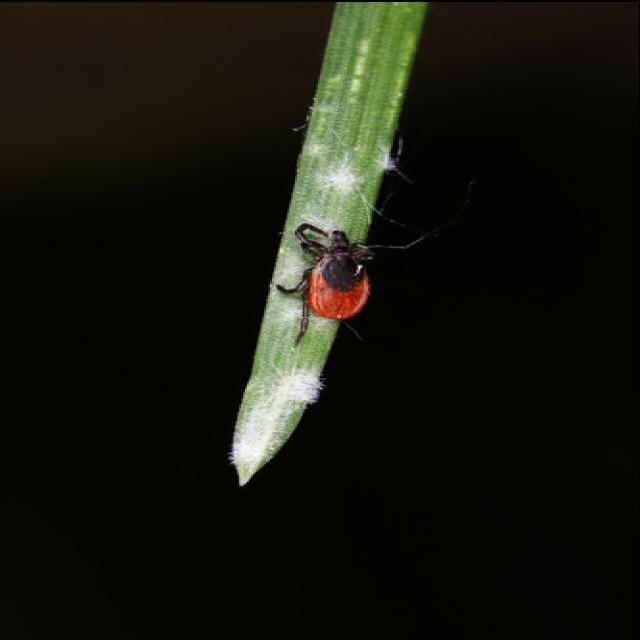Ixodes Ricinus-F: (281, 221, 432, 347)
